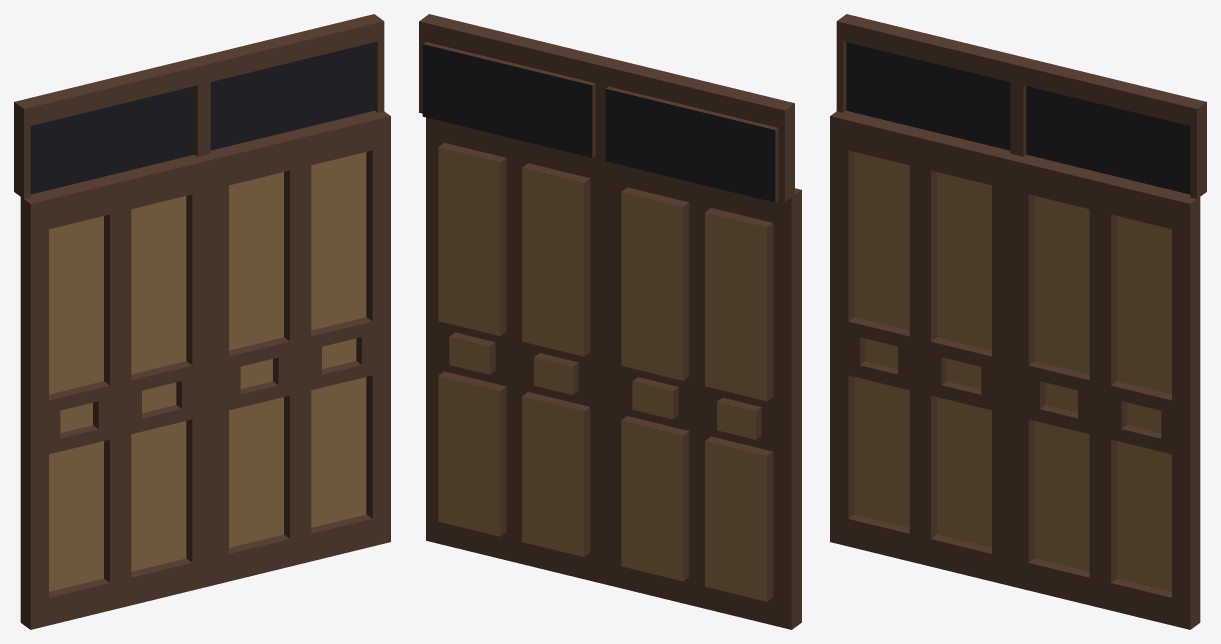
The model's file is pintu_atta.fbx.
The picture shows the model from 3 angles, left to right: view 1: azimuth 30°, elevation 25°; view 2: azimuth 150°, elevation 25°; view 3: azimuth 330°, elevation 25°; orthographic projection.
Visible parts, largest first — view 1: Cube.163; view 2: Cube.163; view 3: Cube.163.
Boxes of the visible parts, x1,y1,x2,y2 form: Cube.163: [14, 14, 390, 629]; Cube.163: [419, 14, 801, 629]; Cube.163: [830, 14, 1206, 629].
Size of the model in its own units: 327 by 448 by 30.63.
